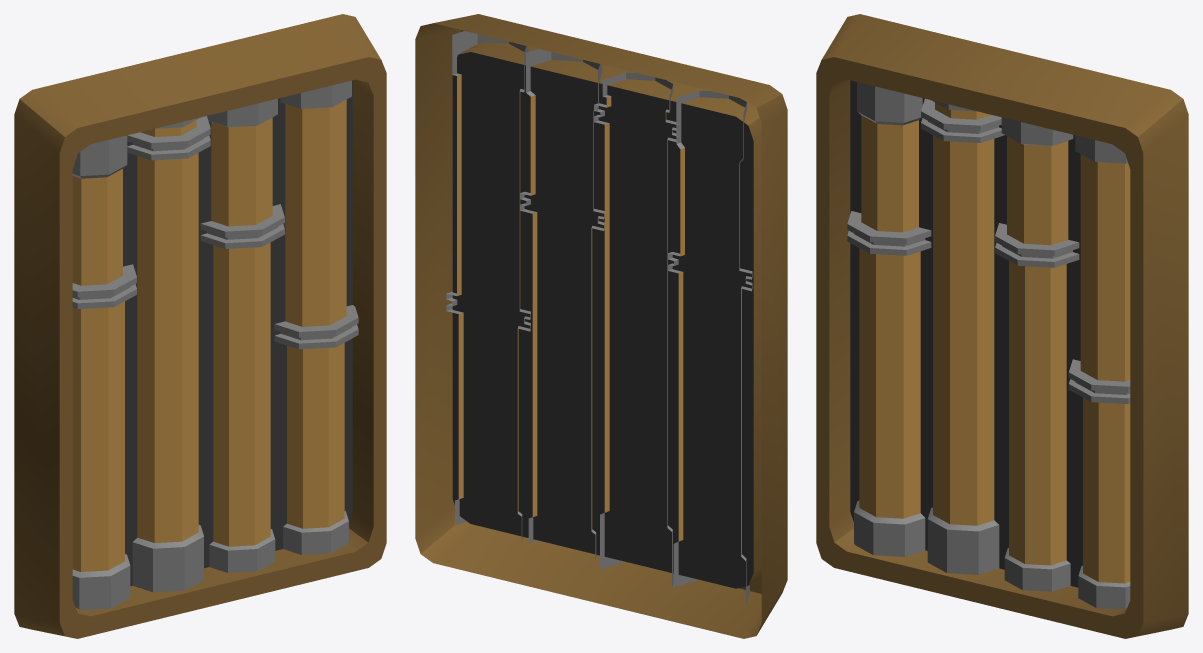
File: Details_Pipes_Medium.gltf
The picture shows the model from 3 angles, left to right: view 1: azimuth 30°, elevation 25°; view 2: azimuth 150°, elevation 25°; view 3: azimuth 330°, elevation 25°; orthographic projection.
Visible parts, largest first — view 1: Details_Pipes_Medium; view 2: Details_Pipes_Medium; view 3: Details_Pipes_Medium.
Boxes of the visible parts, left/top/right/bottom form: Details_Pipes_Medium: left=14, top=14, right=386, bottom=638; Details_Pipes_Medium: left=415, top=14, right=787, bottom=638; Details_Pipes_Medium: left=816, top=14, right=1188, bottom=638.
Size of the model in its own units: 0.5143 by 0.7659 by 0.0932.
